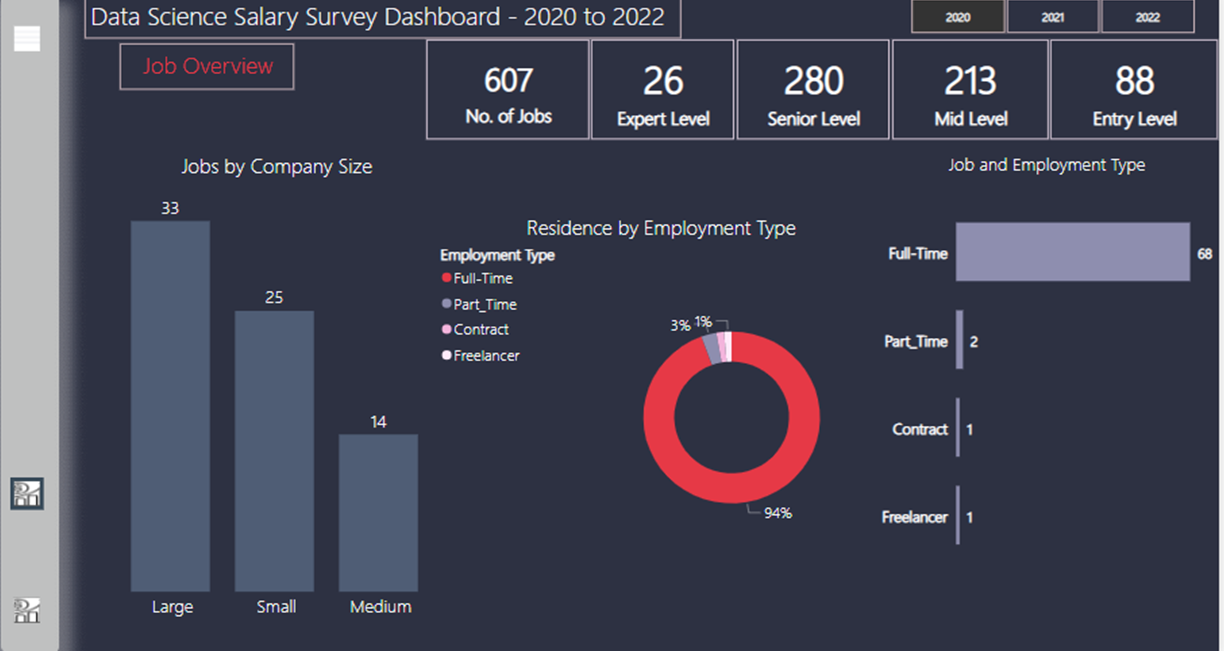

Layout of this report page (visuals, bound fields, positions):
{"tool":"powerbi","page":{"name":"Job Overview","canvas":[1280,720],"ordinal":0},"visuals":[{"type":"card","fields":{"Values":["Sum(Expert_Level_Cat.No_Jobs_by_count)"]},"box":[622.8,53,150.2,107.7],"z":0,"group":"g1"},{"type":"slicer","fields":{"Values":["ds_salaries.work_year.Variation.Date Hierarchy.Year"]},"box":[933.1,1.7,346.9,51.3],"z":0},{"type":"card","fields":{"Values":["Sum(Senior_Level_Cat.No_Jobs_by_count)"]},"box":[775.4,53,160.2,107.7],"z":1000,"group":"g1"},{"type":"clusteredBarChart","title":"Job and Employment Type","fields":{"Category":["ds_salaries.employment_Type"],"Y":["CountNonNull(ds_salaries.job_title)"]},"box":[921.1,174.3,358.9,495.6],"z":1000},{"type":"card","fields":{"Values":["Categorised_job_experience_level.T_no_jobs"]},"box":[449.5,53,170.9,107.7],"z":2000,"group":"g1"},{"type":"clusteredColumnChart","title":"Jobs by Company Size","fields":{"Y":["CountNonNull(ds_salaries.employment_Type)"],"Category":["ds_salaries.company_size"]},"box":[90.6,174.3,403.3,514.4],"z":2000},{"type":"card","fields":{"Values":["Sum(Mid_Level_Cat.No_Jobs_by_count)"]},"box":[937.9,53,164.4,107.7],"z":3000,"group":"g1"},{"type":"pieChart","title":"Residence by Employment Type","fields":{"Category":["ds_salaries.employment_Type"],"Y":["CountNonNull(ds_salaries.employee_residence)"]},"box":[459.7,241,473.4,411.9],"z":3000},{"type":"card","fields":{"Values":["Sum(Entry_Level_Cat.No_Jobs_by_count)"]},"box":[1104.7,53,175.7,107.7],"z":4000,"group":"g1"},{"type":"textbox","box":[90.7,1.4,626.5,49.6],"z":4000},{"type":"textbox","box":[128.2,56.4,182.9,49.6],"z":5000},{"type":"actionButton","box":[12.8,34,35.4,35.4],"z":8000},{"type":"actionButton","box":[12.8,652,35.4,35.4],"z":9000},{"type":"actionButton","box":[12.8,525.8,35.4,35.4],"z":10000},{"type":"group","id":"g1","title":"Group 1","box":[449.5,53,830.5,107.7],"z":11000}]}

Visuals, with their boxes on the page's 1280x720 design canvas (x1, y1, x2, y2). These are canvas units, not pixel positions in the 1224x651 screenshot, which may show the page scaled, cropped or inside an application window:
card - Sum(Expert_Level_Cat.No_Jobs_by_count): (left=623, top=53, right=773, bottom=161)
slicer - ds_salaries.work_year.Variation.Date Hierarchy.Year: (left=933, top=2, right=1280, bottom=53)
card - Sum(Senior_Level_Cat.No_Jobs_by_count): (left=775, top=53, right=936, bottom=161)
"Job and Employment Type" clusteredBarChart: (left=921, top=174, right=1280, bottom=670)
card - Categorised_job_experience_level.T_no_jobs: (left=450, top=53, right=620, bottom=161)
"Jobs by Company Size" clusteredColumnChart: (left=91, top=174, right=494, bottom=689)
card - Sum(Mid_Level_Cat.No_Jobs_by_count): (left=938, top=53, right=1102, bottom=161)
"Residence by Employment Type" pieChart: (left=460, top=241, right=933, bottom=653)
card - Sum(Entry_Level_Cat.No_Jobs_by_count): (left=1105, top=53, right=1280, bottom=161)
textbox: (left=91, top=1, right=717, bottom=51)
textbox: (left=128, top=56, right=311, bottom=106)
actionButton: (left=13, top=34, right=48, bottom=69)
actionButton: (left=13, top=652, right=48, bottom=687)
actionButton: (left=13, top=526, right=48, bottom=561)
"Group 1" group: (left=450, top=53, right=1280, bottom=161)
